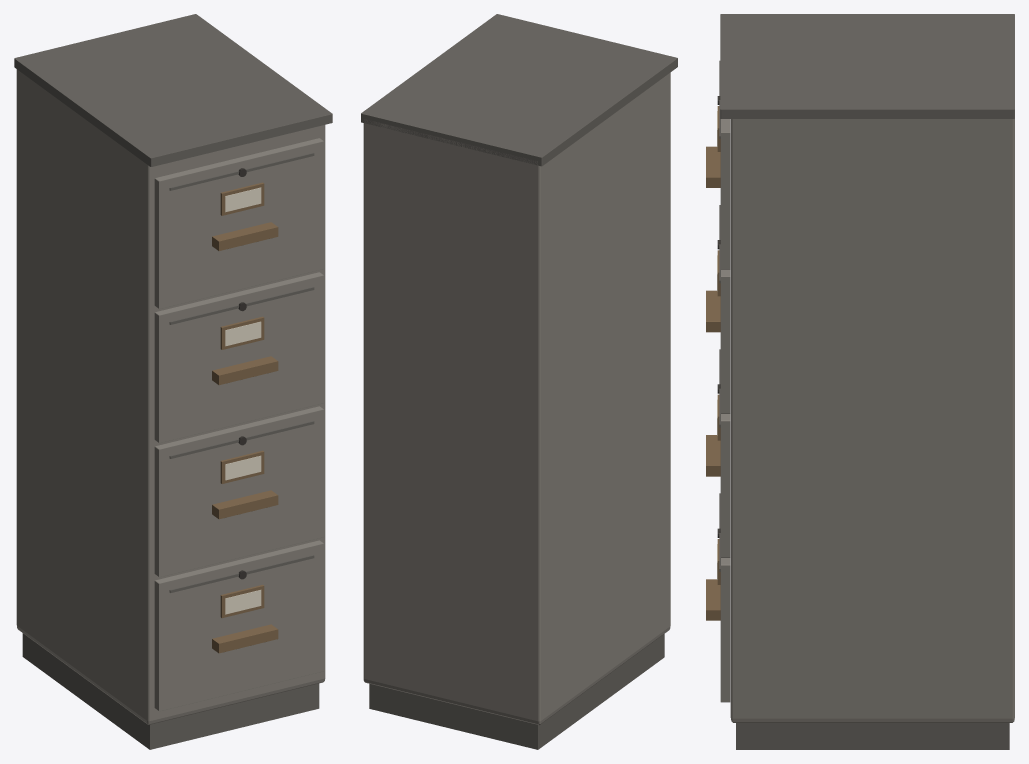
File: b1_cabinet.glb
3 views of the same model, side by side, from view 1: azimuth 30°, elevation 25°; view 2: azimuth 150°, elevation 25°; view 3: azimuth 270°, elevation 25° (orthographic). The views are drawn at different scales.
Parts seen in each view (by area): view 1: b1_cabinet; view 2: b1_cabinet; view 3: b1_cabinet.
Part boxes in pixels (x1=…): b1_cabinet: x1=14, y1=14, x2=332, y2=749; b1_cabinet: x1=361, y1=14, x2=677, y2=749; b1_cabinet: x1=706, y1=14, x2=1014, y2=749.
Bounding box in the file's own units: 0.43 × 1.35 × 0.587.
